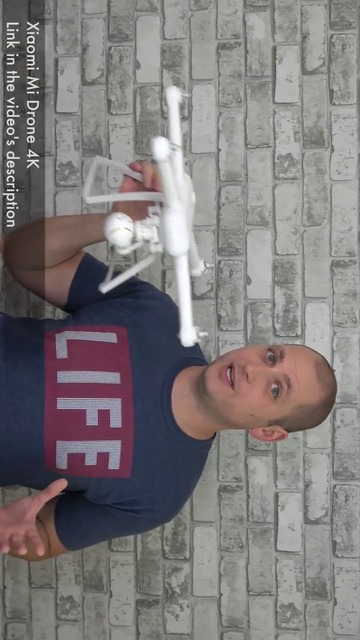drone: (83, 86, 213, 347)
